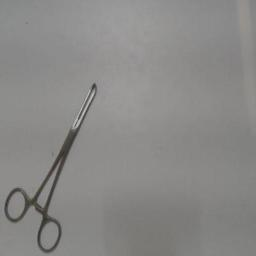Allis Tissue Forceps: (2, 77, 100, 255)
